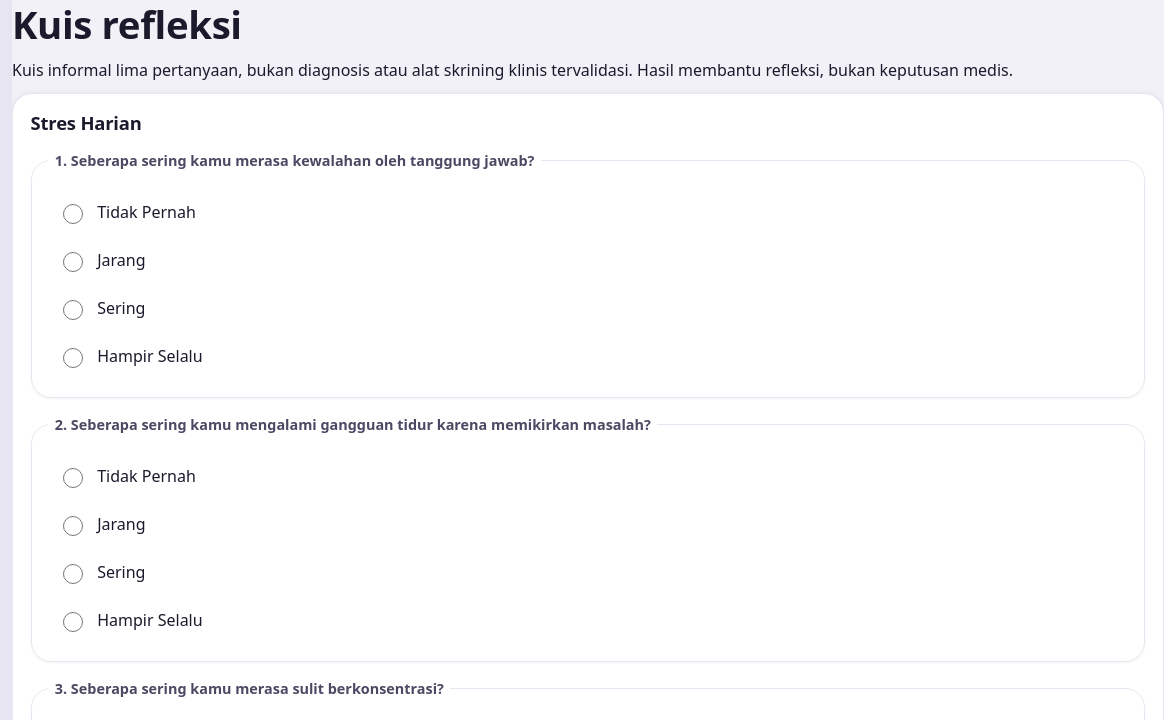
Test: requires complete responses, persists actual scoring and shows honest informal result/history
The width and height of the screenshot is (1164, 720).
Earlier steps of the test are not shown.
Click the 1st radio button labelled "Hampir Selalu" at (73, 358), box [63, 348, 83, 368]
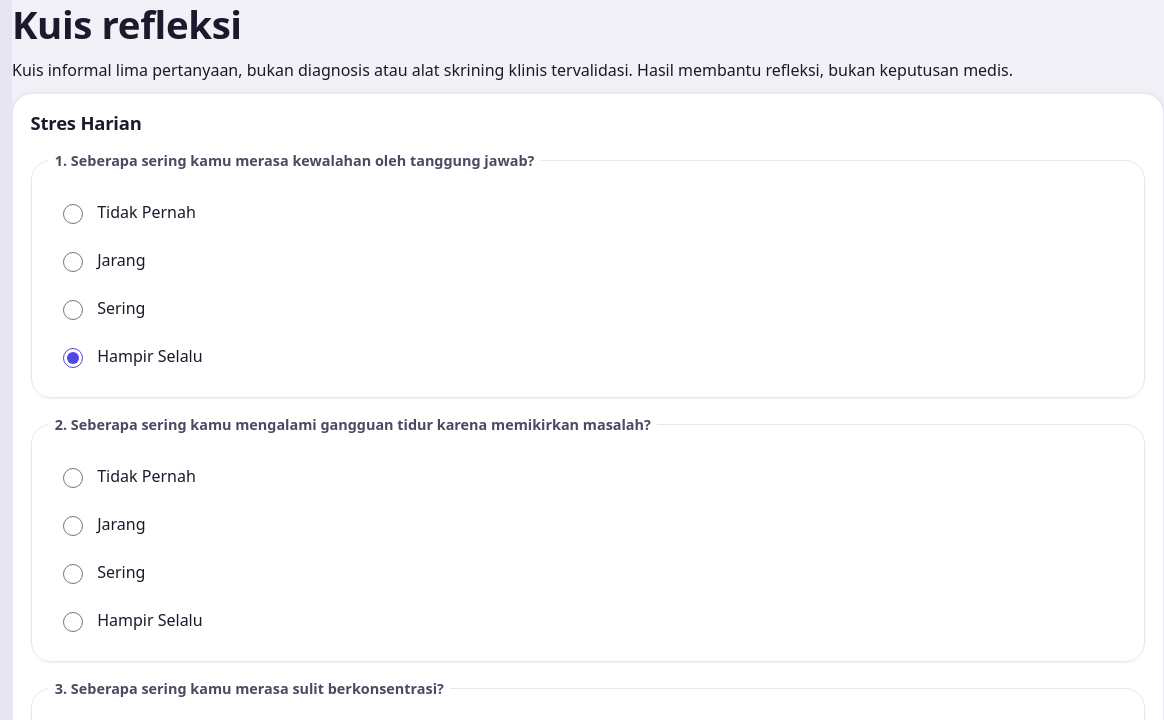
Click the 2nd radio button labelled "Hampir Selalu" at (73, 622), box [63, 612, 83, 632]
(page scrolled)
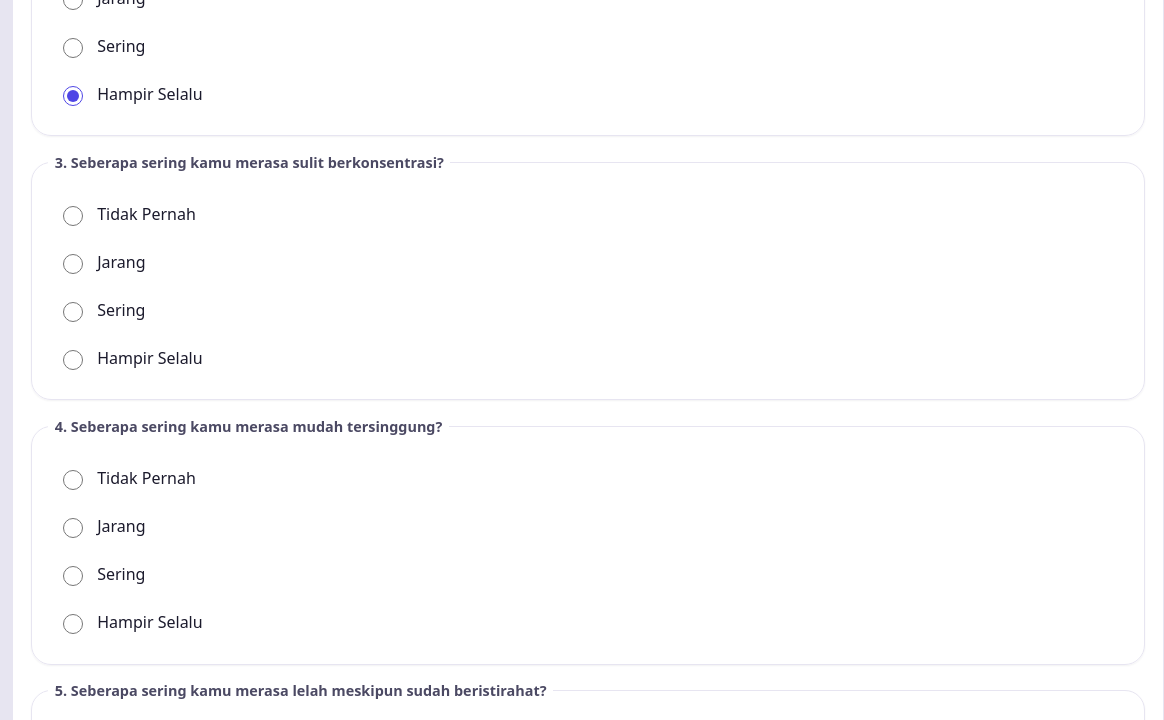
Click the 2nd radio button labelled "Hampir Selalu" at (73, 360), box [63, 350, 83, 370]
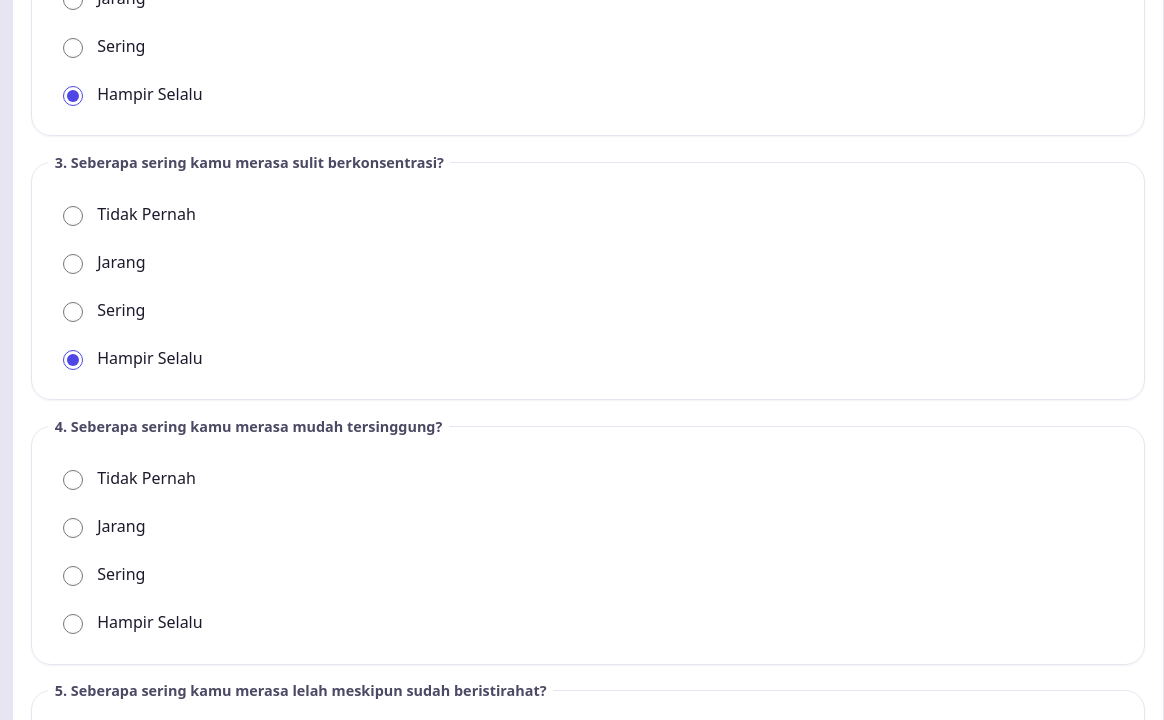
Click the 3rd radio button labelled "Hampir Selalu" at (73, 624), box [63, 614, 83, 634]
(page scrolled)
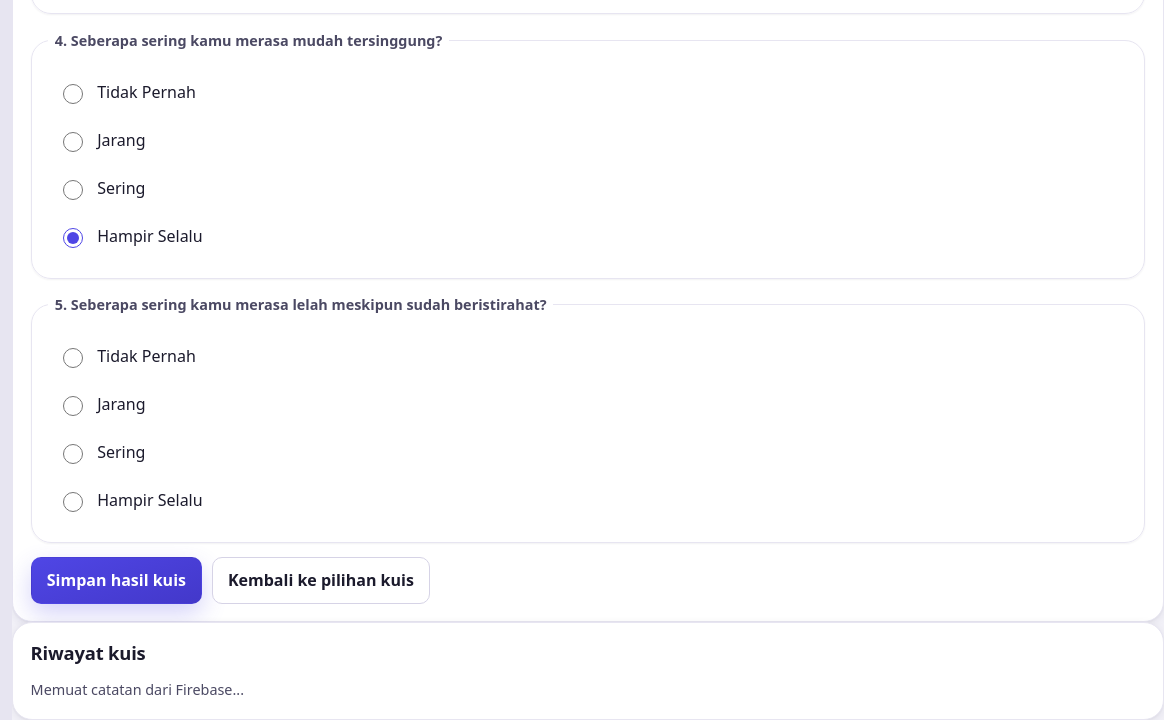
Click the 2nd radio button labelled "Hampir Selalu" at (73, 502), box [63, 492, 83, 512]
(page scrolled)
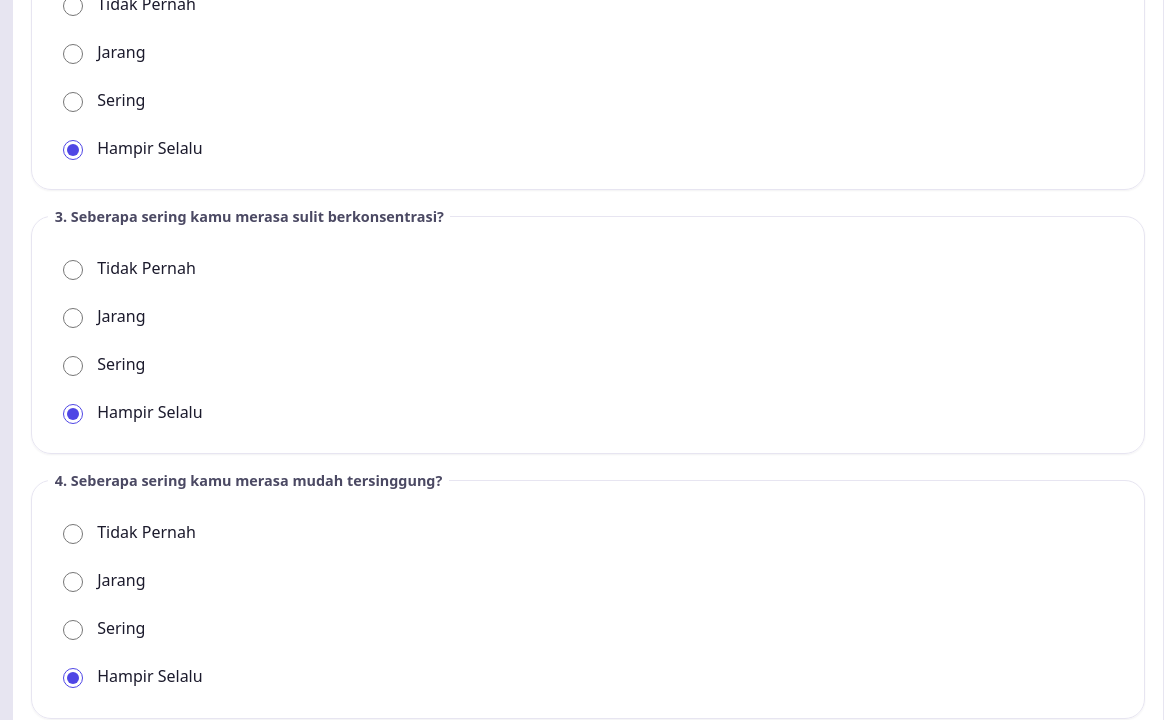
Submit the form named "Simpan hasil kuis"
(page scrolled)
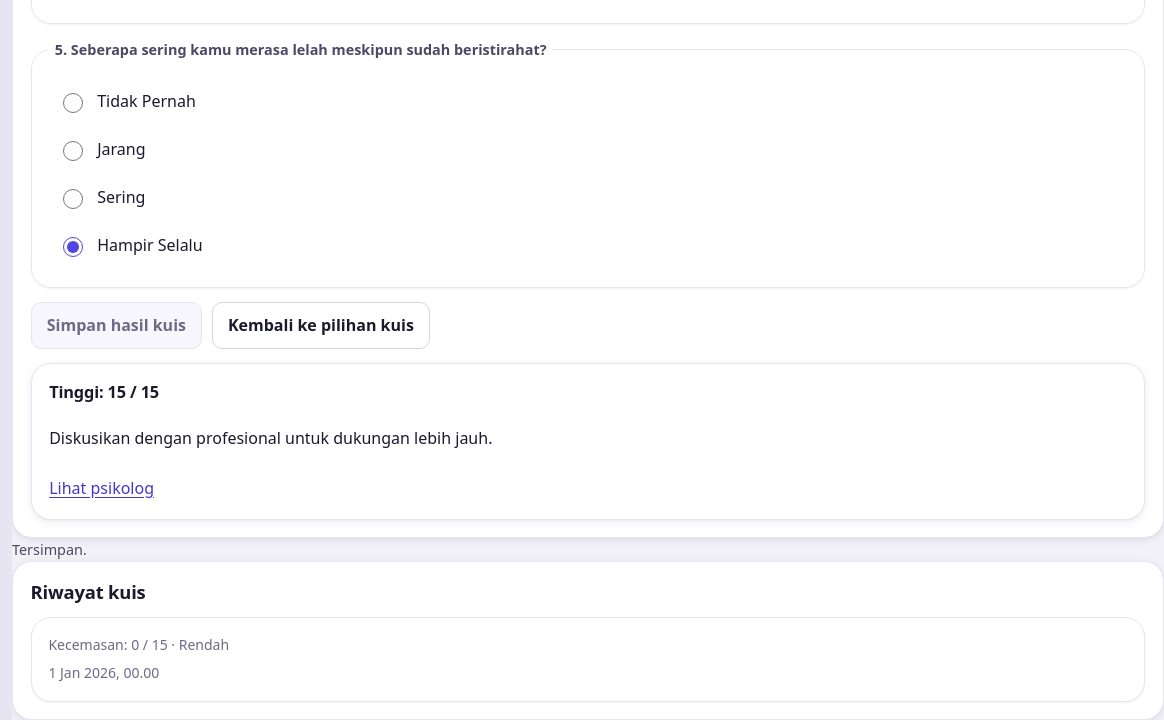
Check: the heading "Tinggi: 15 / 15" is shown, box [49, 381, 159, 403]
Check: the text "Kecemasan: 0 / 15 · Rendah" is shown, box [48, 636, 229, 654]
